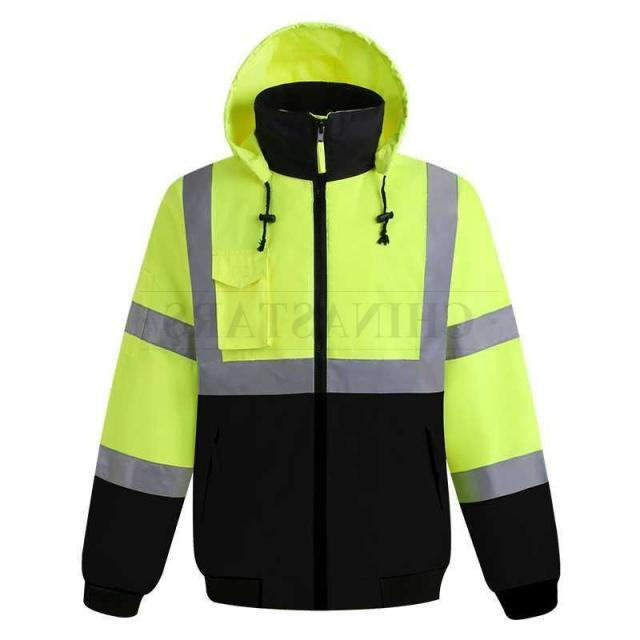construction-vest: (86, 23, 554, 614)
